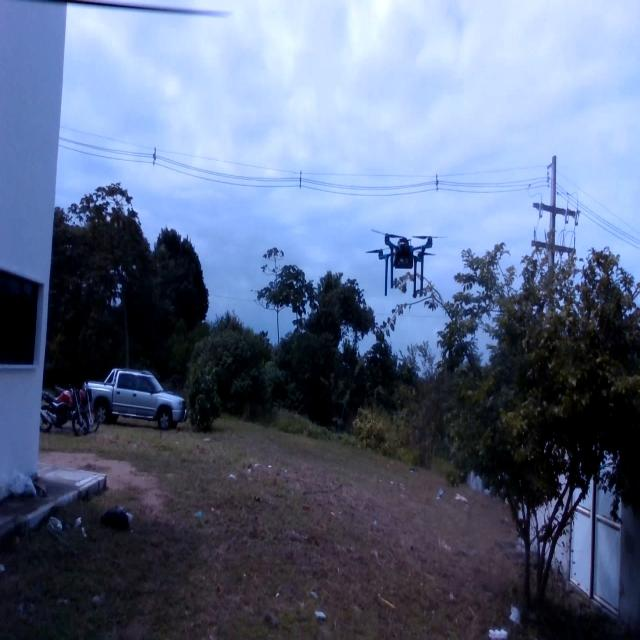-uav-: (356, 214, 449, 309)
